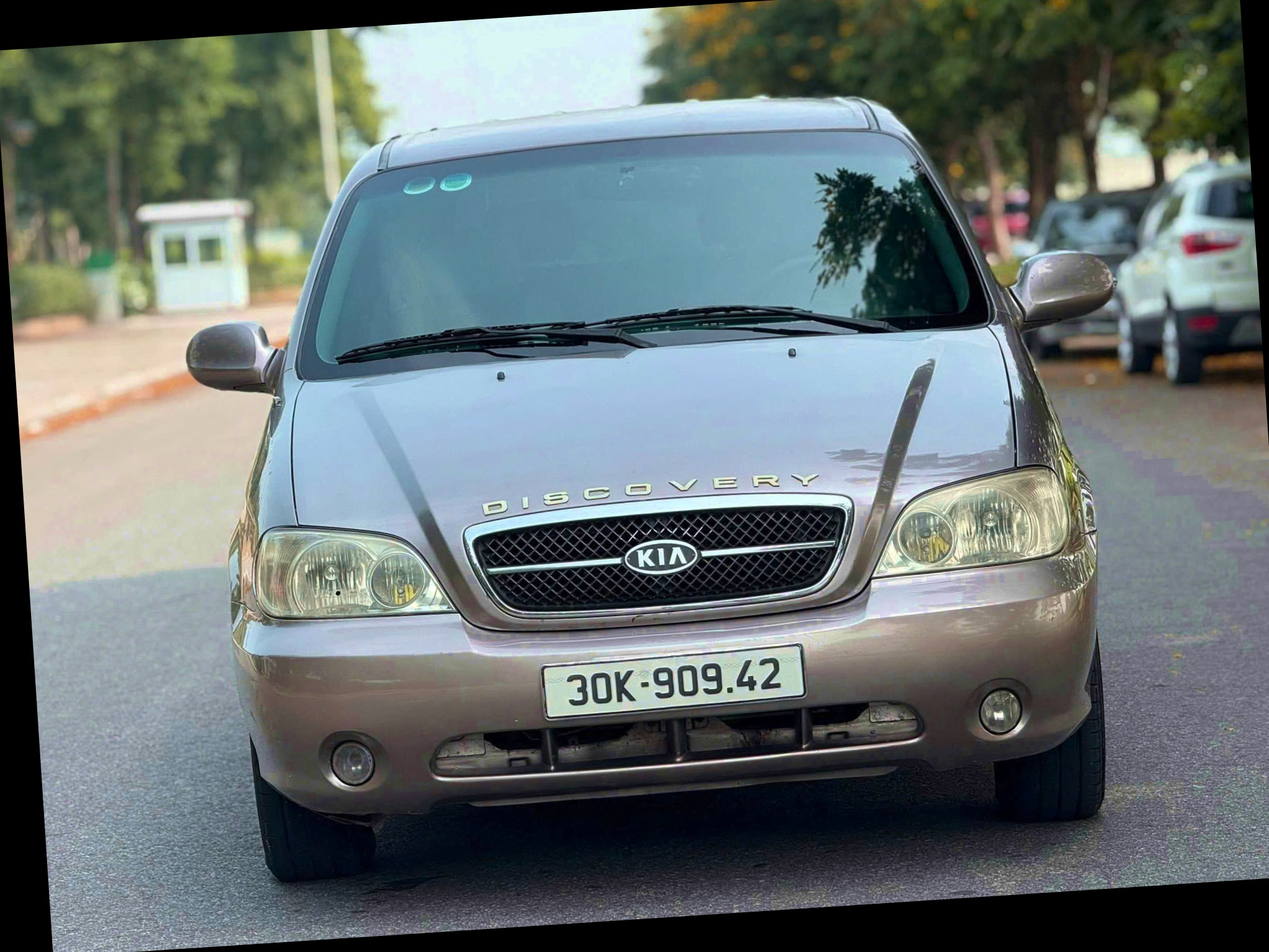Bien-so: (546, 644, 810, 714)
